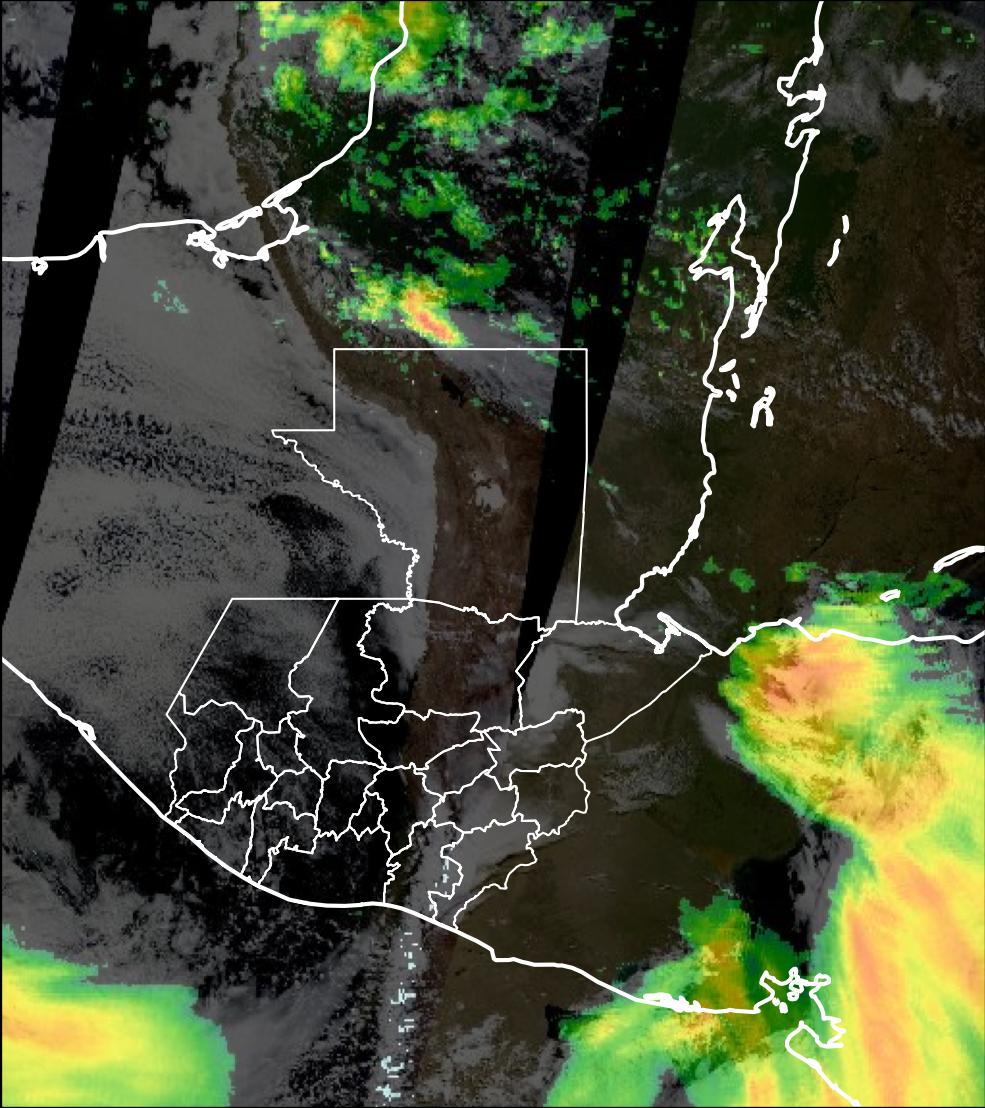precipitacion: (750, 638, 985, 845), (1, 1005, 119, 1066), (401, 280, 474, 344)
